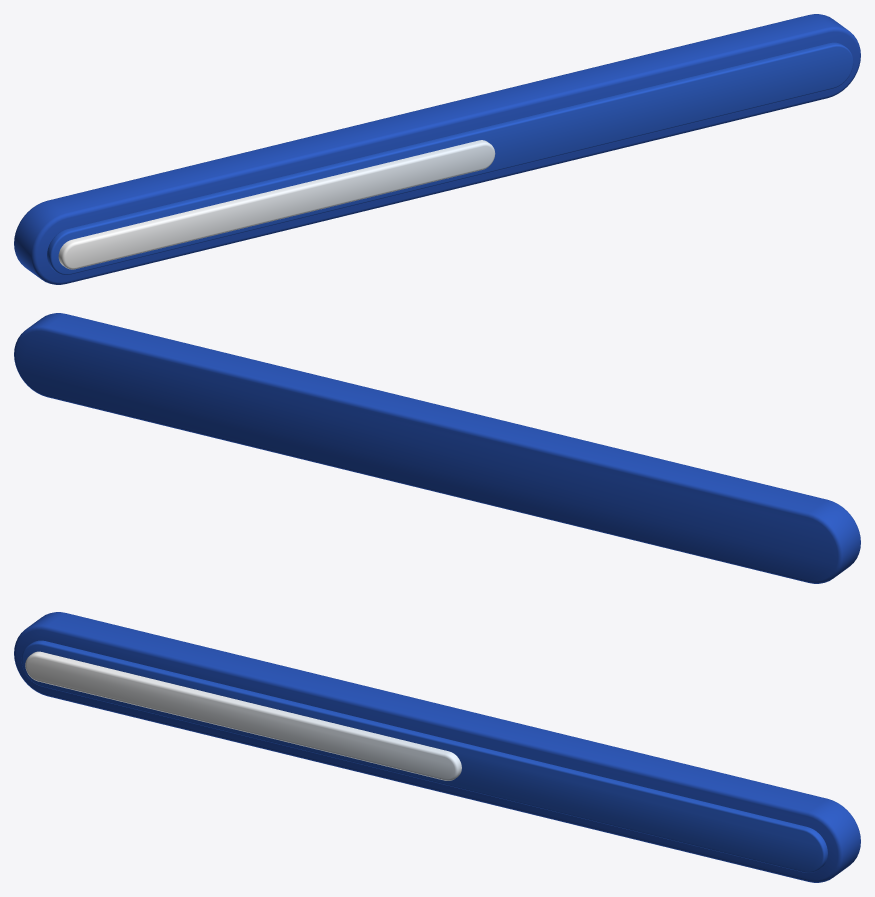
Rendered from progreso-azul.glb.
The picture shows the model from 3 angles, top to bottom: view 1: azimuth 30°, elevation 25°; view 2: azimuth 150°, elevation 25°; view 3: azimuth 330°, elevation 25°; orthographic projection.
Parts seen in each view (by area): view 1: borde, canal, relleno; view 2: borde; view 3: borde, canal, relleno.
Boxes of the visible parts, bbox=[...] form: borde: bbox=[14, 14, 860, 284]; canal: bbox=[47, 42, 853, 274]; relleno: bbox=[58, 140, 495, 269]; borde: bbox=[14, 313, 860, 583]; borde: bbox=[14, 612, 860, 882]; canal: bbox=[21, 640, 827, 872]; relleno: bbox=[25, 651, 461, 780].
Size of the model in its own units: 3.2 by 0.26 by 0.2.
